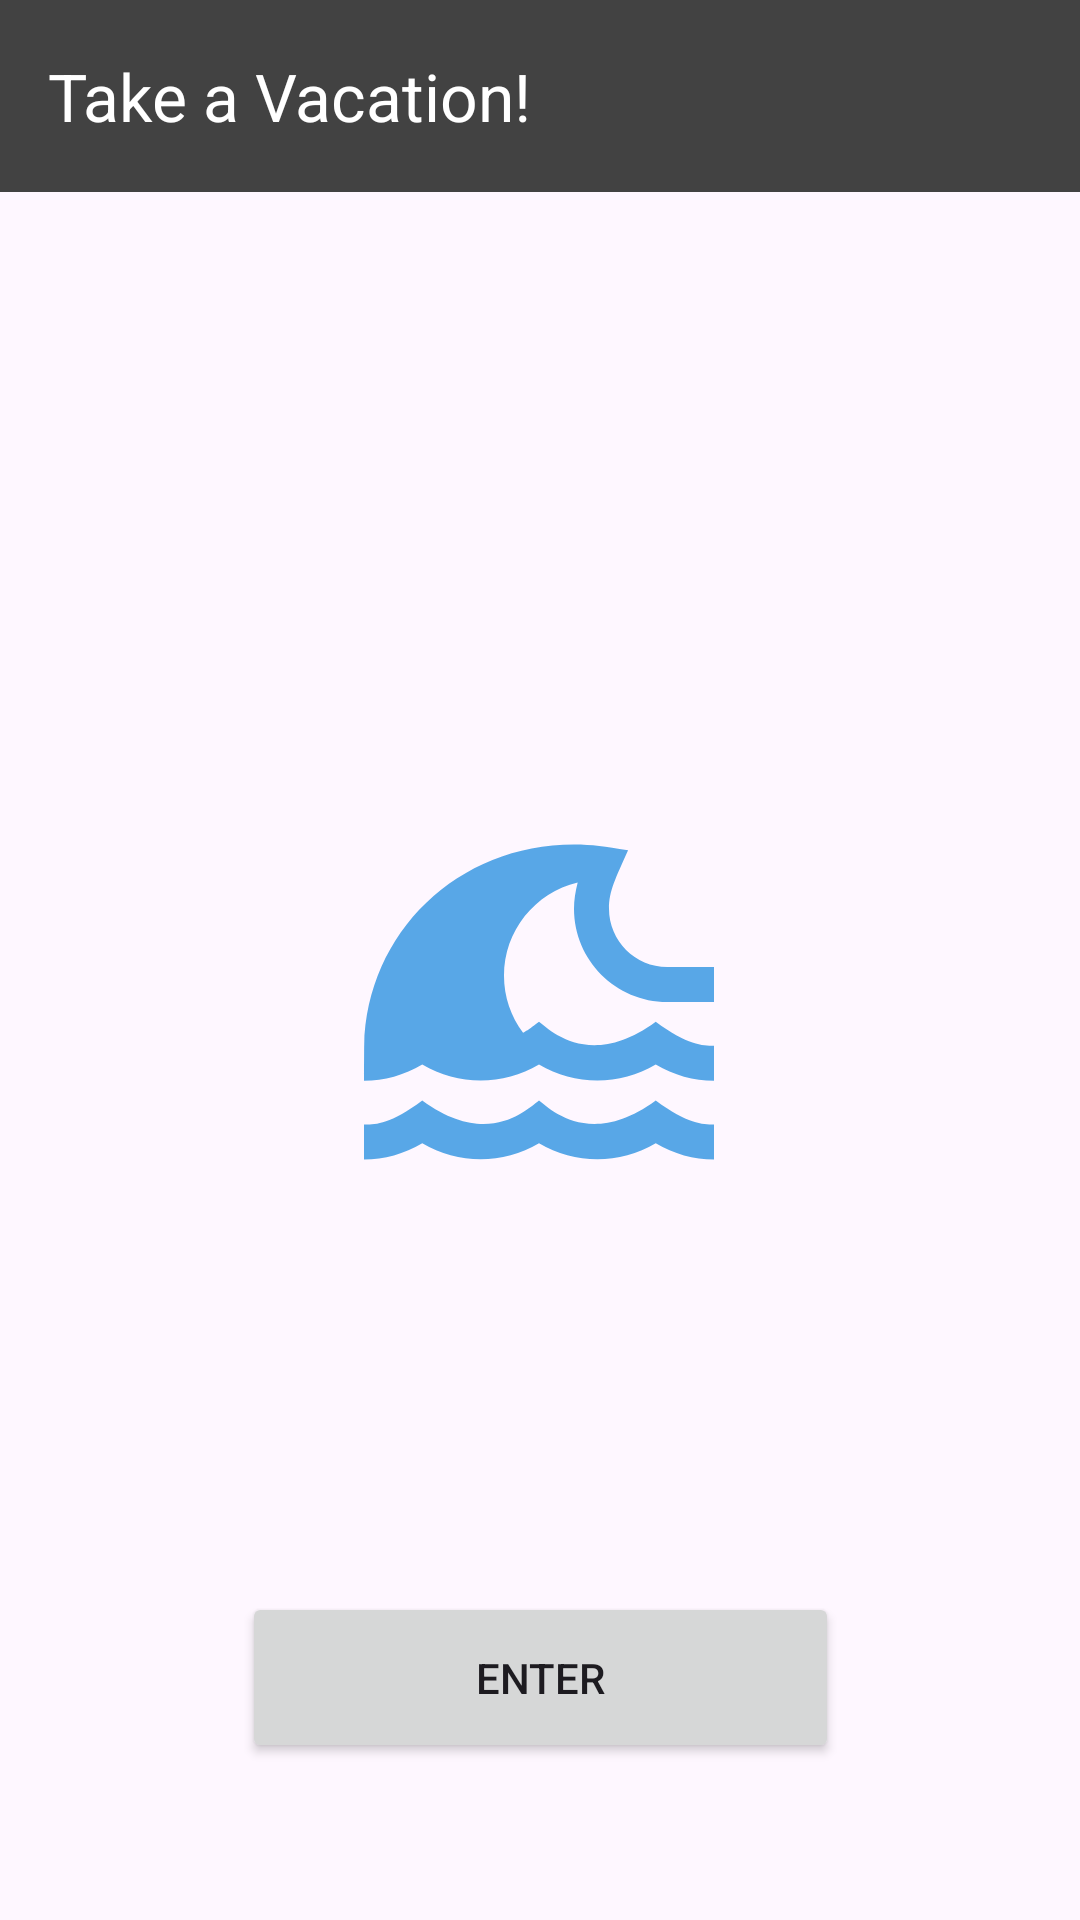

Icons on this 1080 x 1920 Android screen, each with the point to tap as point (x, y):
tsunami: point (539, 1002)
